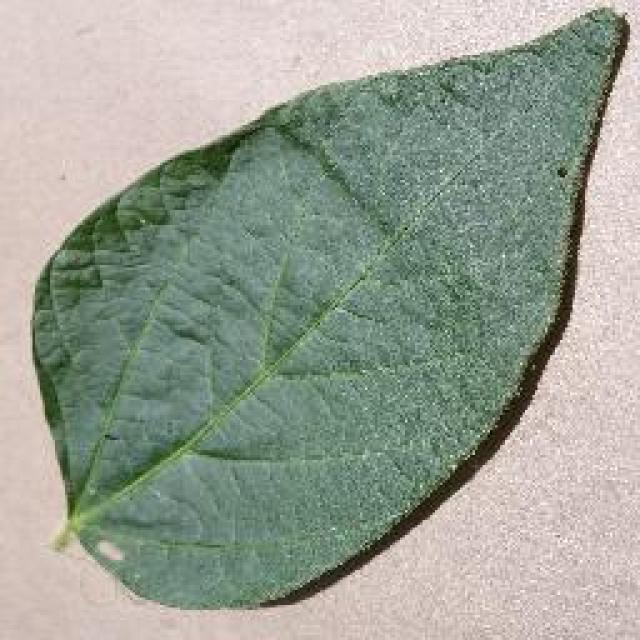Soy_healthy: (53, 60, 585, 541)
